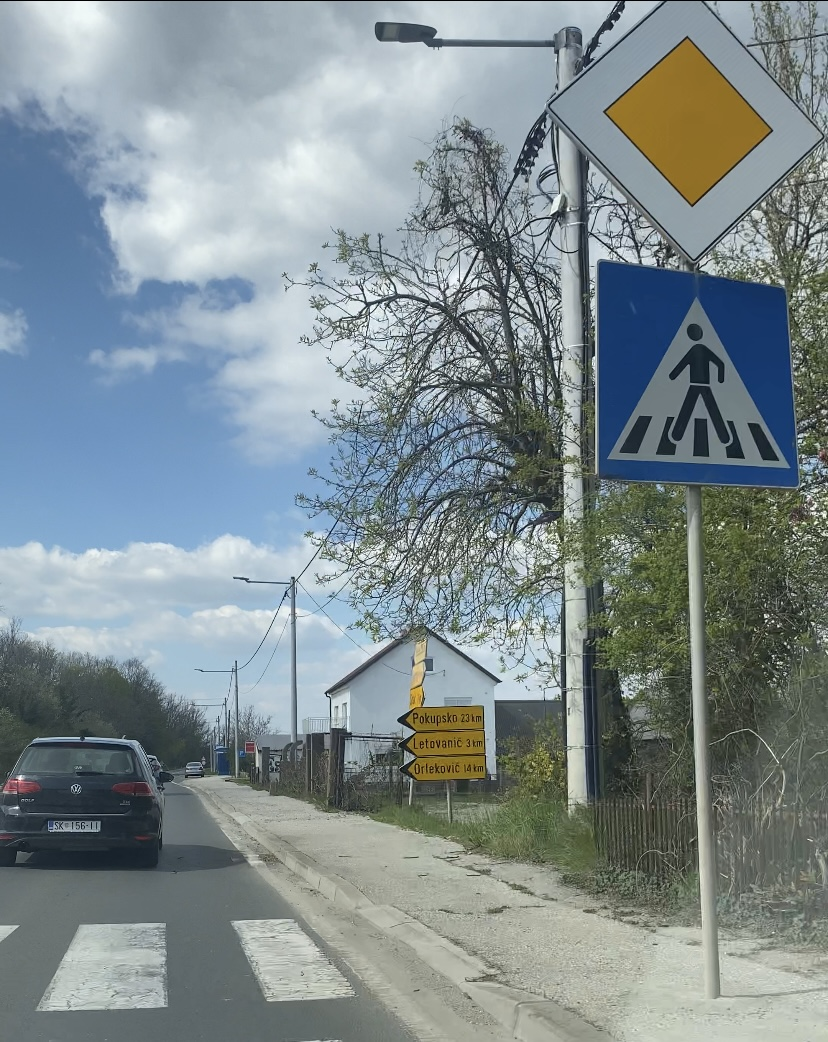Pješački prijelaz: (595, 259, 800, 492)
